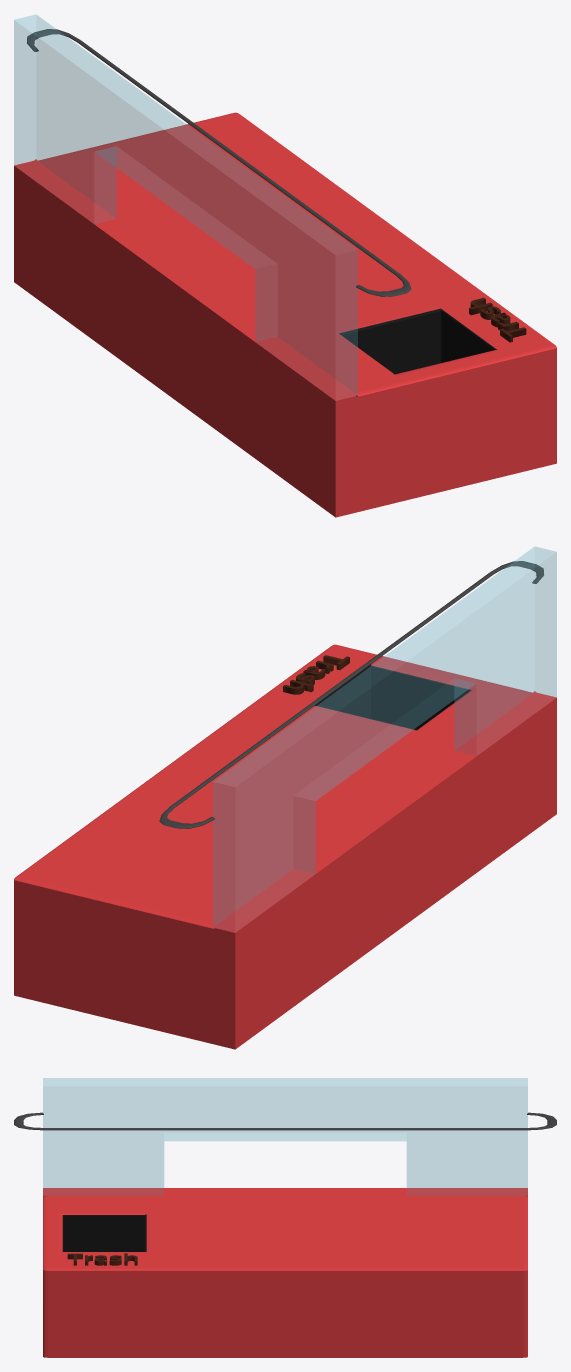
File: TicketStation.glb
3 renders of one model, top to bottom at view 1: azimuth 30°, elevation 25°; view 2: azimuth 150°, elevation 25°; view 3: azimuth 270°, elevation 25°, orthographic. The views are drawn at different scales.
Visible parts, largest first — view 1: TicketStation; view 2: TicketStation; view 3: TicketStation.
Part boxes in pixels (box(x1,y1,x2,y2)): TicketStation: box(14, 14, 556, 517); TicketStation: box(14, 546, 556, 1049); TicketStation: box(14, 1078, 556, 1357).
Size of the model in its own units: 4 by 4.5 by 11.2.
